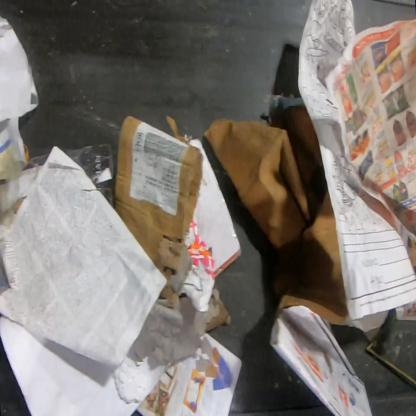cardboard: (202, 104, 348, 327), (114, 113, 202, 281)
